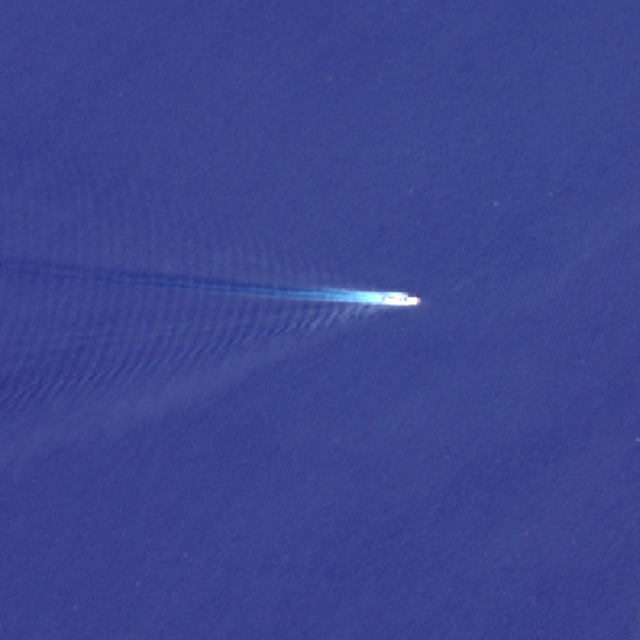wake: (111, 196, 440, 388)
